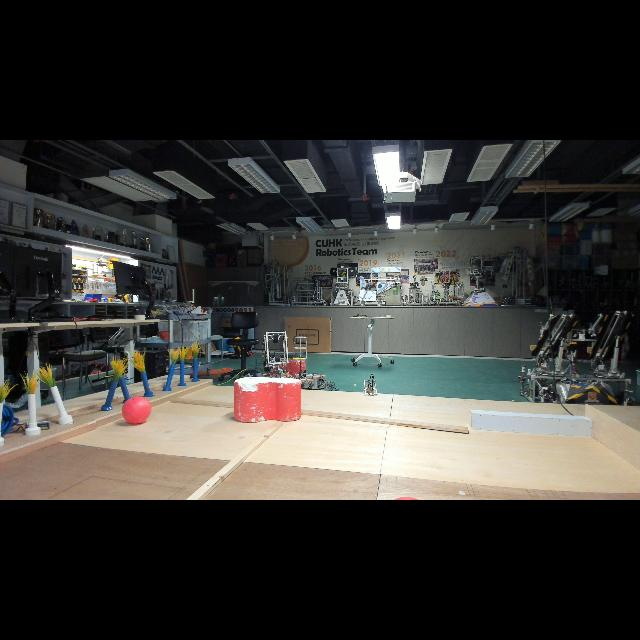R: (120, 394, 154, 428)
S: (293, 336, 307, 360)
